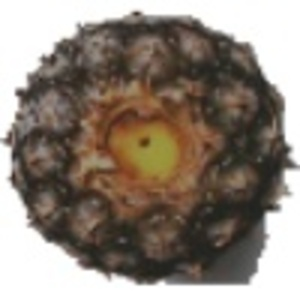abacaxi: (8, 10, 284, 272)
